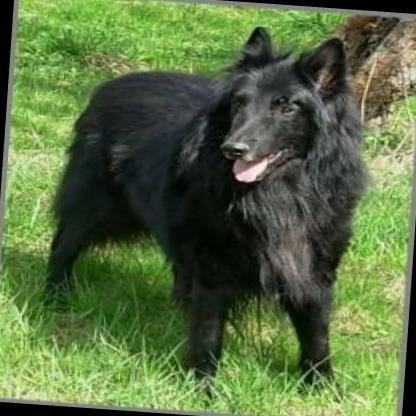groenendael: (35, 12, 375, 390)
